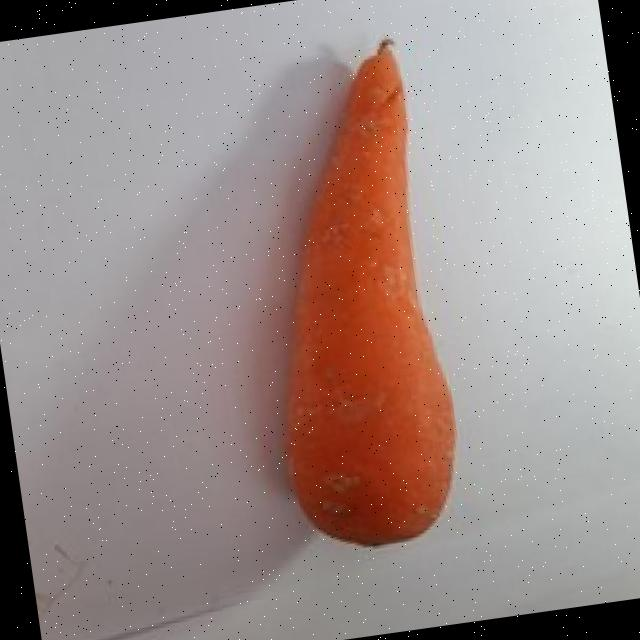carrot: (287, 39, 456, 545)
